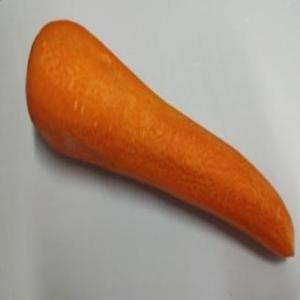carrot: (21, 16, 295, 270)
